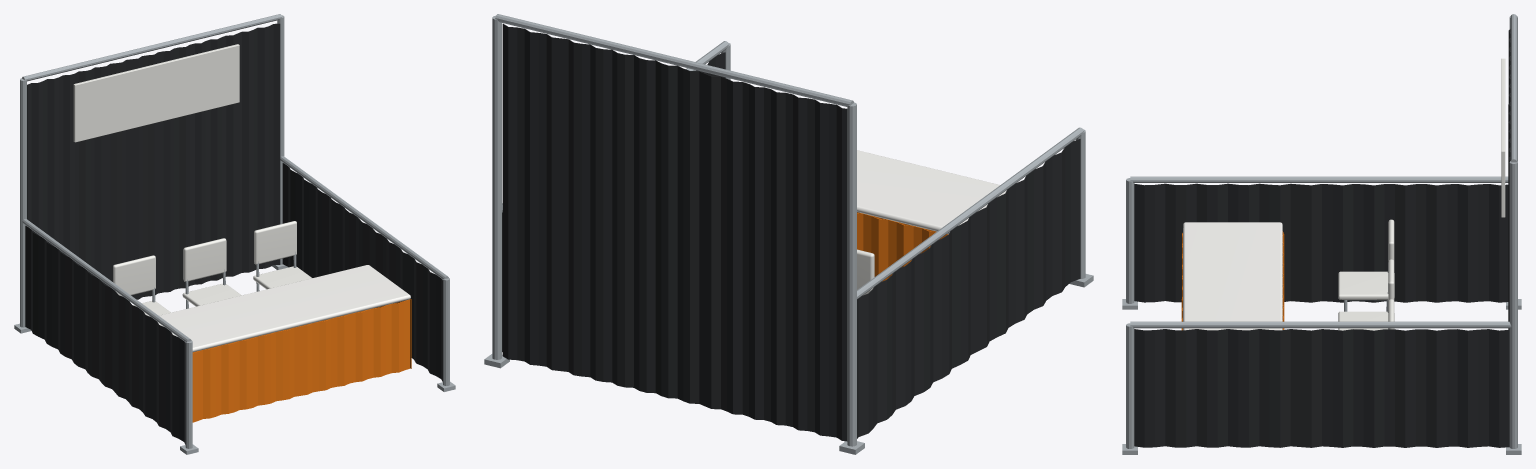
Rendered from market-booth-v2.glb.
The picture shows the model from 3 angles, left to right: view 1: azimuth 30°, elevation 25°; view 2: azimuth 150°, elevation 25°; view 3: azimuth 270°, elevation 25°; orthographic projection. The views are drawn at different scales.
Parts seen in each view (by area): view 1: Show black drape, House-Hasson orange skirt, Replaceable blank sign, White table linen, Dark stainless booth pipe, Warm white chair and sign; view 2: Show black drape, Dark stainless booth pipe, White table linen, House-Hasson orange skirt, Warm white chair and sign; view 3: Show black drape, Dark stainless booth pipe, White table linen, Warm white chair and sign, Replaceable blank sign.
Boxes of the visible parts, x1,y1,x2,y2 form: Show black drape: (25, 23, 442, 444); House-Hasson orange skirt: (192, 299, 411, 422); Replaceable blank sign: (73, 44, 239, 142); White table linen: (158, 265, 410, 352); Dark stainless booth pipe: (14, 14, 455, 454); Warm white chair and sign: (113, 221, 312, 316); Show black drape: (502, 23, 1080, 441); Dark stainless booth pipe: (484, 14, 1093, 454); White table linen: (857, 150, 1006, 234); House-Hasson orange skirt: (857, 212, 948, 281); Warm white chair and sign: (857, 249, 874, 295); Show black drape: (1134, 29, 1510, 447); Dark stainless booth pipe: (1122, 14, 1521, 454); White table linen: (1183, 222, 1282, 330); Warm white chair and sign: (1338, 219, 1394, 330); Replaceable blank sign: (1501, 58, 1505, 217).
Bounding box in the file's own units: 2.74 × 2.46 × 3.05.
